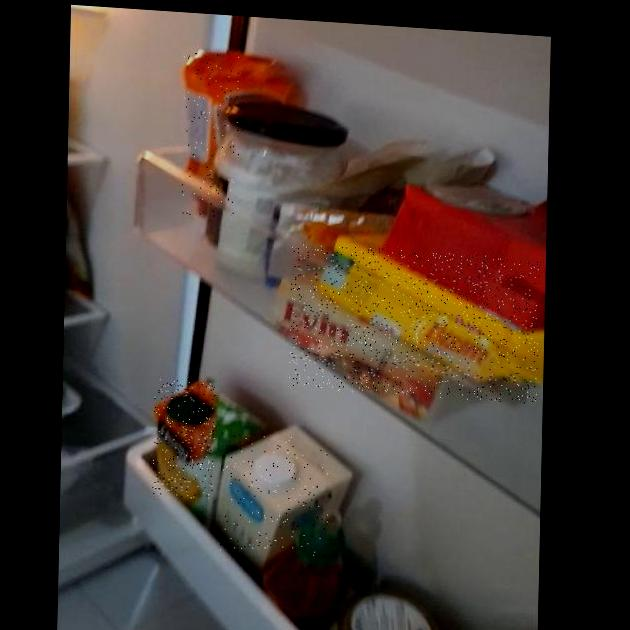butter: (289, 243, 541, 404)
juice: (152, 379, 216, 500)
milk: (218, 431, 330, 559)
sauce: (180, 52, 242, 218)
